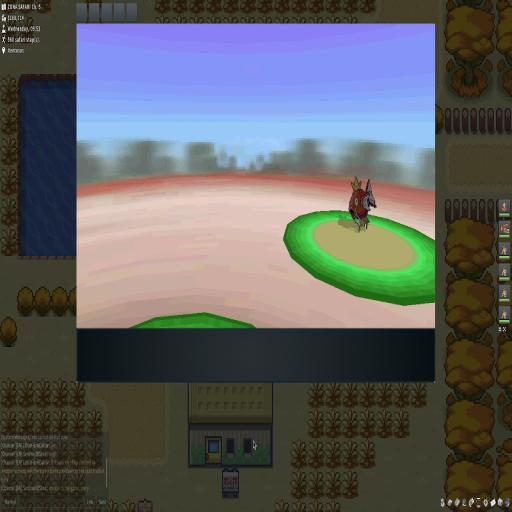MAGIKARP: (348, 176, 376, 233)
